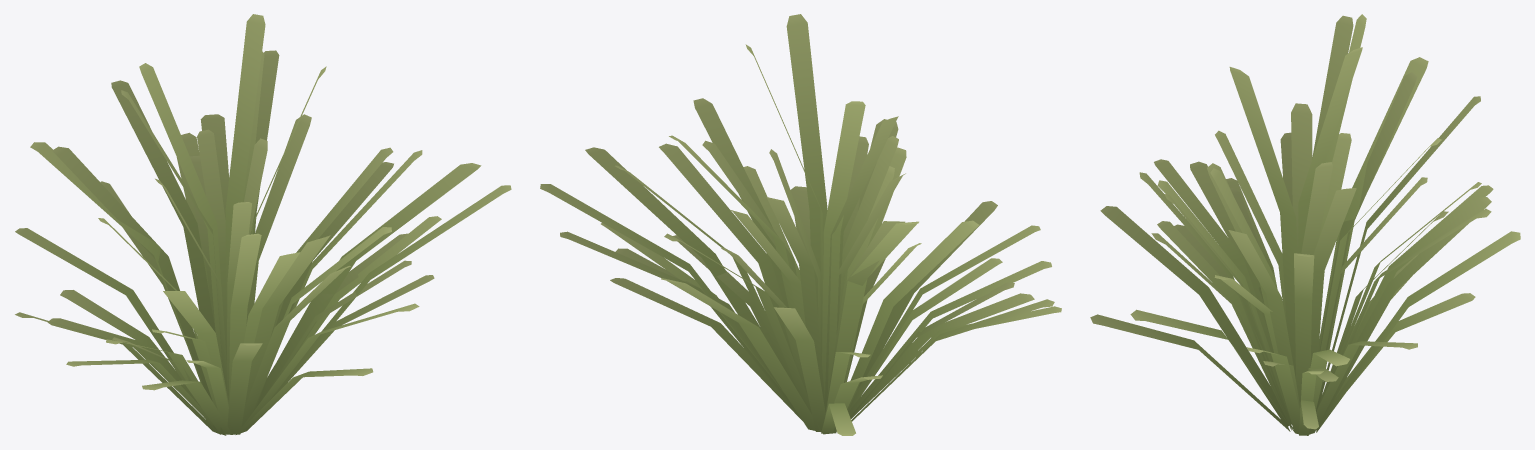
Rendered from tuft-f.glb.
3 renders of one model, left to right at view 1: azimuth 30°, elevation 25°; view 2: azimuth 150°, elevation 25°; view 3: azimuth 270°, elevation 25°, orthographic. The views are drawn at different scales.
Visible parts, largest first — view 1: tuft_f_grass_tuft; view 2: tuft_f_grass_tuft; view 3: tuft_f_grass_tuft.
Part boxes in pixels (x1,y1,x2,y2): tuft_f_grass_tuft: [15, 14, 511, 435]; tuft_f_grass_tuft: [540, 14, 1061, 435]; tuft_f_grass_tuft: [1090, 14, 1520, 435].
Bounding box in the file's own units: 0.439 × 0.33 × 0.3172.
